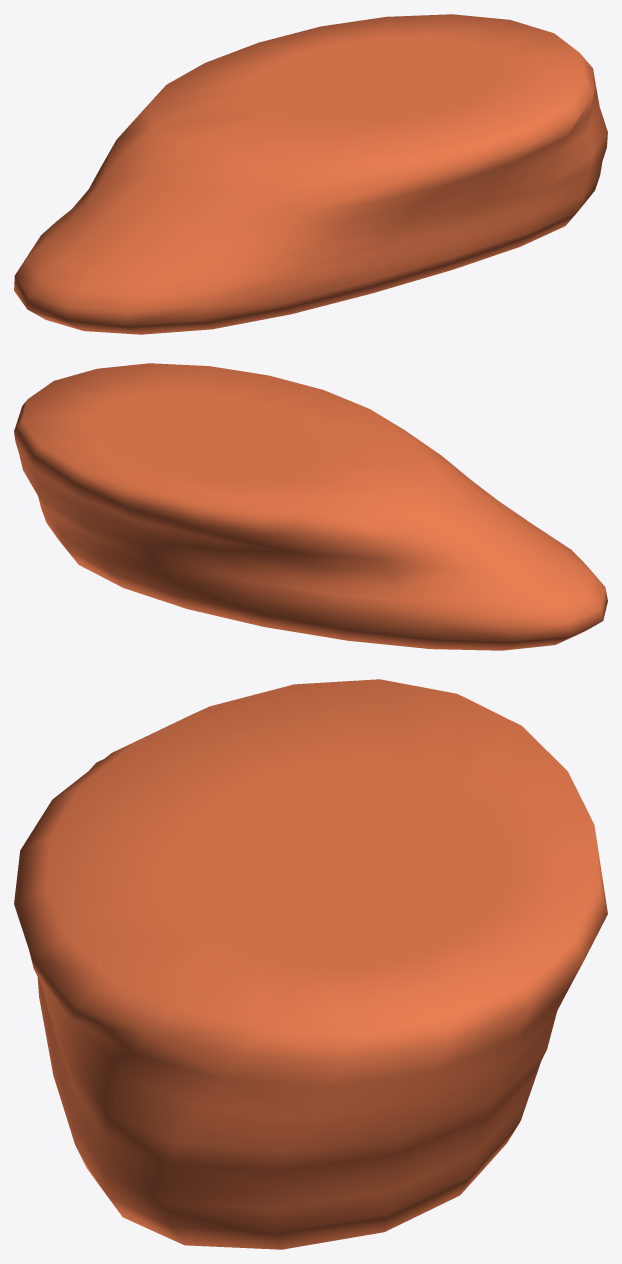
File: StoneShoe2.fbx
The picture shows the model from 3 angles, top to bottom: view 1: azimuth 30°, elevation 25°; view 2: azimuth 150°, elevation 25°; view 3: azimuth 270°, elevation 25°; orthographic projection. The views are drawn at different scales.
Parts seen in each view (by area): view 1: Shoe.001; view 2: Shoe.001; view 3: Shoe.001.
Boxes of the visible parts, box(x1,y1,x2,y2) form: Shoe.001: box(14, 14, 607, 334); Shoe.001: box(14, 363, 607, 650); Shoe.001: box(14, 679, 607, 1249).
Bounding box in the file's own units: 4.43 × 1.95 × 8.89.
